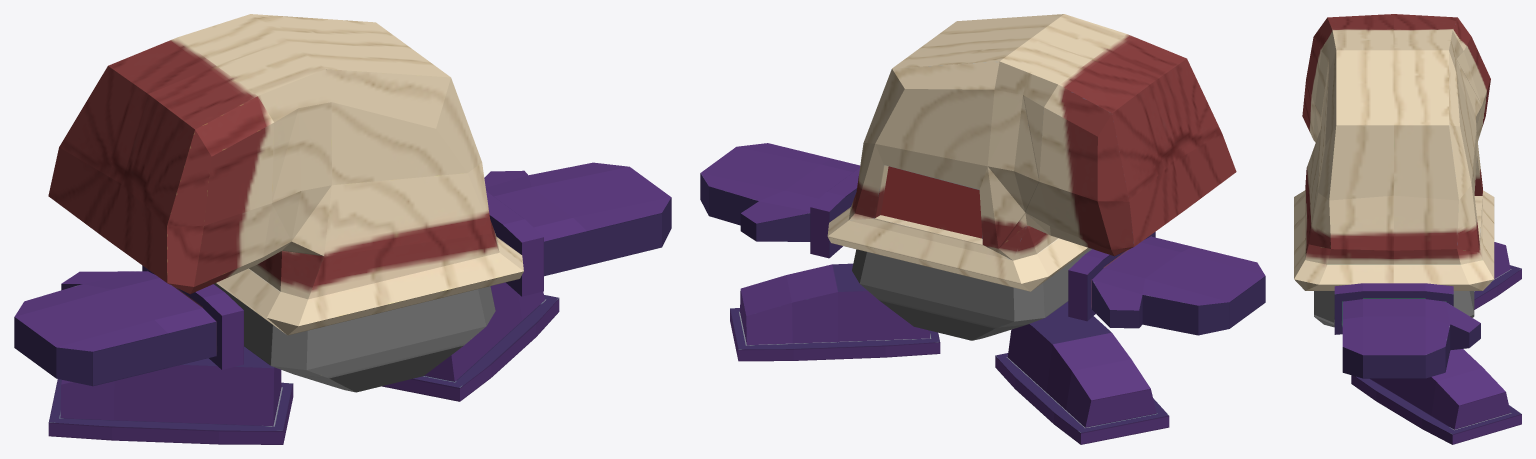
File: SockThiefTemp.fbx
3 renders of one model, left to right at view 1: azimuth 30°, elevation 25°; view 2: azimuth 150°, elevation 25°; view 3: azimuth 270°, elevation 25°, orthographic. The views are drawn at different scales.
Visible parts, largest first — view 1: Sock, Hand_Left, Foot_Left, Hand_Right, Body, Foot_Right; view 2: Sock, Hand_Left, Foot_Left, Foot_Right, Hand_Right, Body, Face; view 3: Sock, Hand_Right, Foot_Right, Foot_Left, Body.
Boxes of the visible parts, left/top/right/bottom form: Sock: left=48, top=14, right=523, bottom=335; Hand_Left: left=14, top=265, right=243, bottom=386; Foot_Left: left=48, top=346, right=293, bottom=444; Hand_Right: left=484, top=162, right=671, bottom=296; Body: left=214, top=283, right=495, bottom=392; Foot_Right: left=382, top=282, right=559, bottom=401; Sock: left=827, top=14, right=1236, bottom=291; Hand_Left: left=1068, top=232, right=1265, bottom=335; Foot_Left: left=995, top=301, right=1169, bottom=444; Foot_Right: left=730, top=263, right=940, bottom=361; Hand_Right: left=700, top=143, right=860, bottom=258; Body: left=852, top=248, right=1091, bottom=340; Face: left=880, top=166, right=982, bottom=238; Sock: left=1294, top=14, right=1494, bottom=290; Hand_Right: left=1334, top=283, right=1480, bottom=378; Foot_Right: left=1351, top=349, right=1521, bottom=444; Foot_Left: left=1474, top=242, right=1521, bottom=309; Body: left=1314, top=291, right=1474, bottom=327.
Bounding box in the file's own units: 291 × 169 × 125.
1 material, 1 textured.
